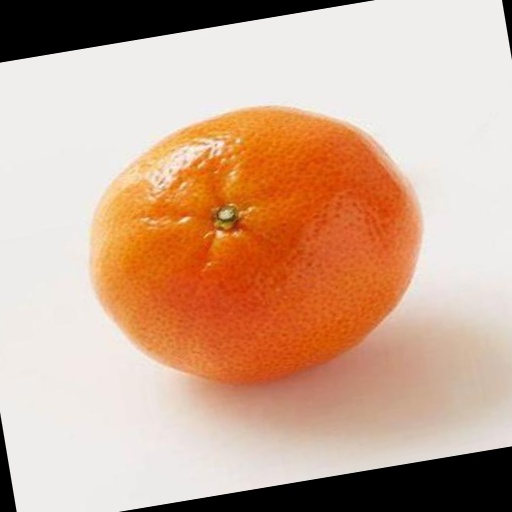fruit: (90, 107, 421, 382)
